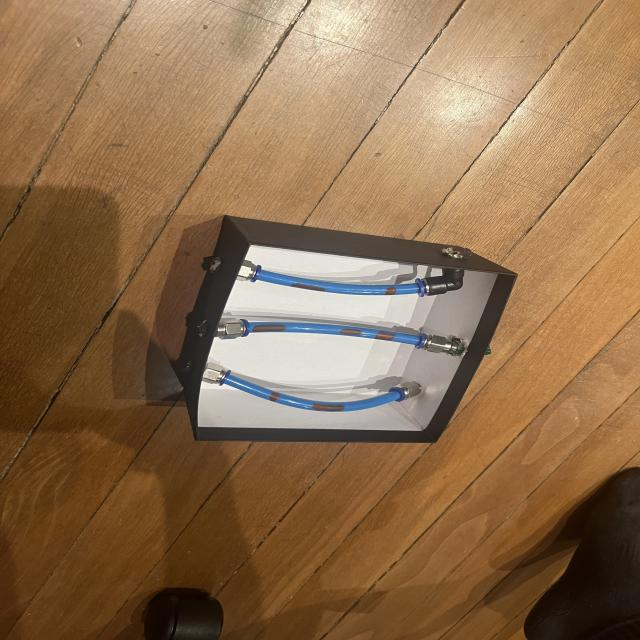hose_damage: (288, 280, 328, 294), (251, 323, 288, 333), (310, 403, 345, 412), (373, 331, 396, 342), (338, 328, 364, 337), (383, 288, 398, 296), (268, 392, 280, 402)
